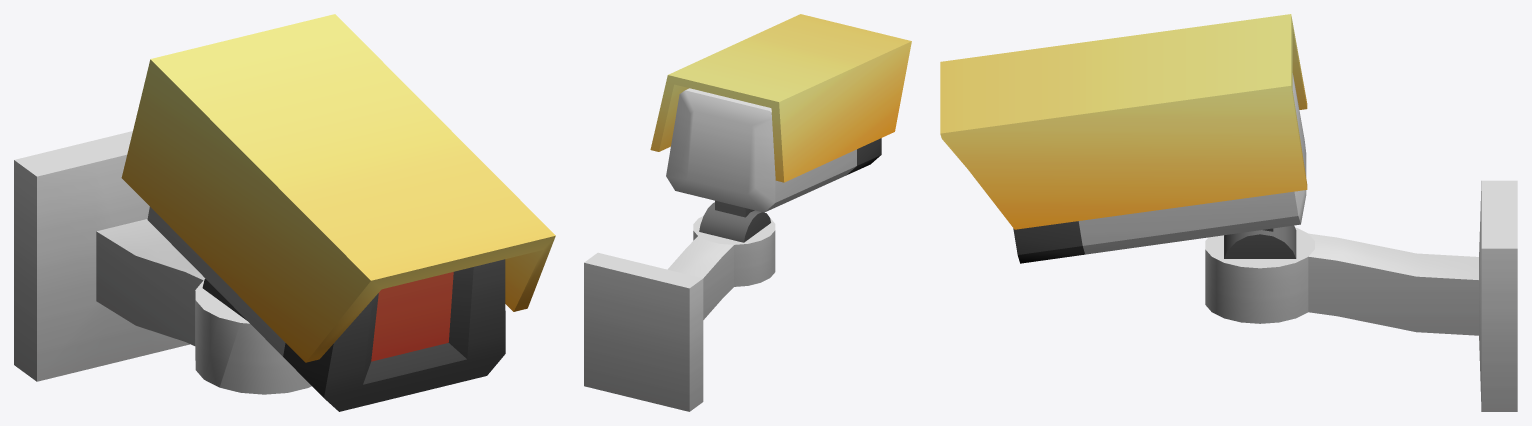
File: Camera.fbx
The picture shows the model from 3 angles, left to right: view 1: azimuth 30°, elevation 25°; view 2: azimuth 150°, elevation 25°; view 3: azimuth 270°, elevation 25°; orthographic projection. The views are drawn at different scales.
Visible parts, largest first — view 1: Camera; view 2: Camera; view 3: Camera.
Part boxes in pixels (box(x1,y1,x2,y2)): Camera: box(14, 14, 555, 411); Camera: box(584, 14, 911, 411); Camera: box(940, 14, 1517, 411).
Bounding box in the file's own units: 39.62 × 70.16 × 112.
